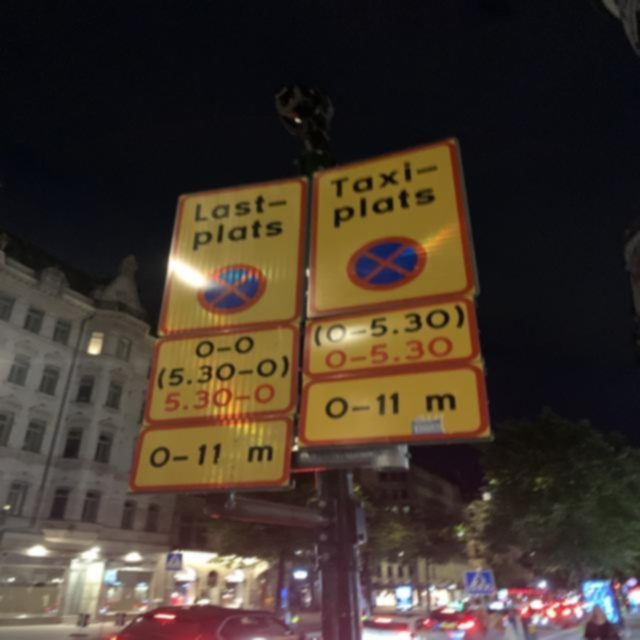lastplats: (154, 173, 309, 337)
